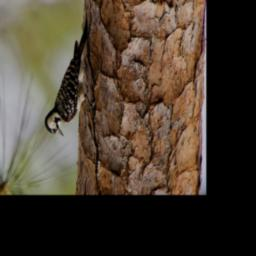Woodpecker: (44, 13, 96, 137)
